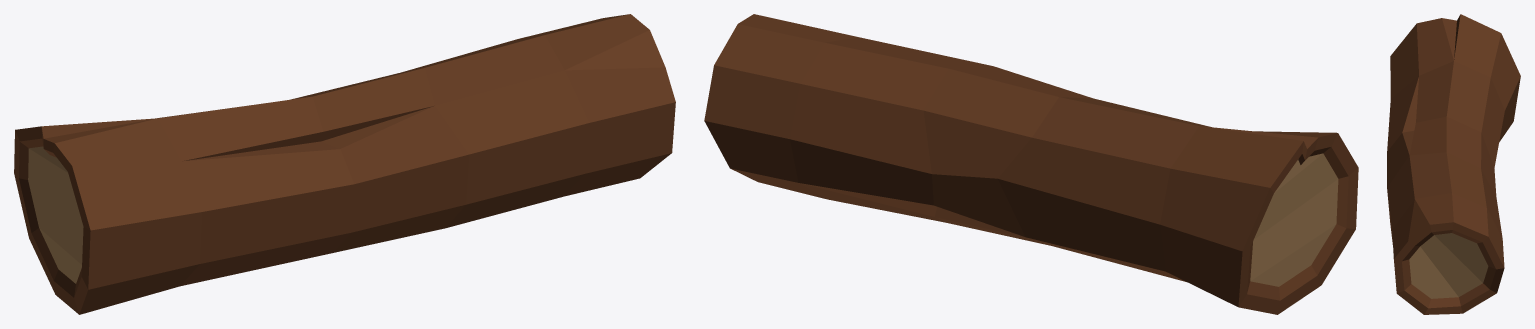
File: wood_log.obj
3 renders of one model, left to right at view 1: azimuth 30°, elevation 25°; view 2: azimuth 150°, elevation 25°; view 3: azimuth 270°, elevation 25°, orthographic. The views are drawn at different scales.
Bounding box in the file's own units: 1.7 × 0.4921 × 0.499.
